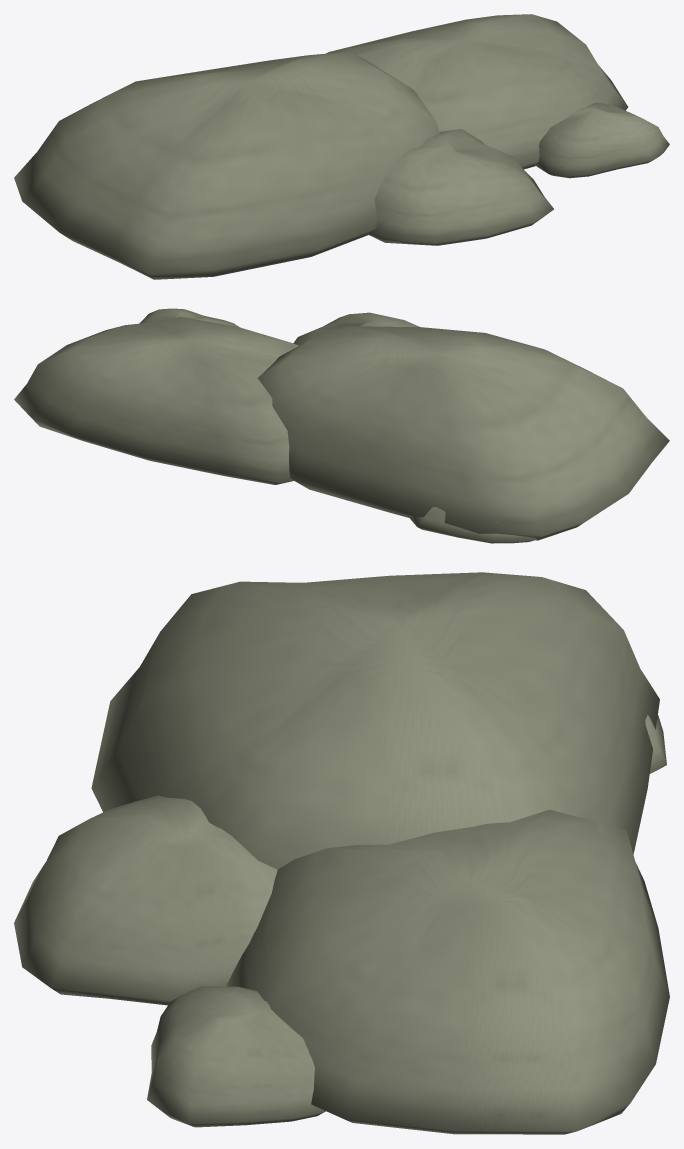
The model's file is shore-rock-lod0.glb.
3 renders of one model, top to bottom at view 1: azimuth 30°, elevation 25°; view 2: azimuth 150°, elevation 25°; view 3: azimuth 270°, elevation 25°, orthographic. The views are drawn at different scales.
Size of the model in its own units: 0.3973 by 0.0746 by 0.2247.
1 material, 1 textured.
